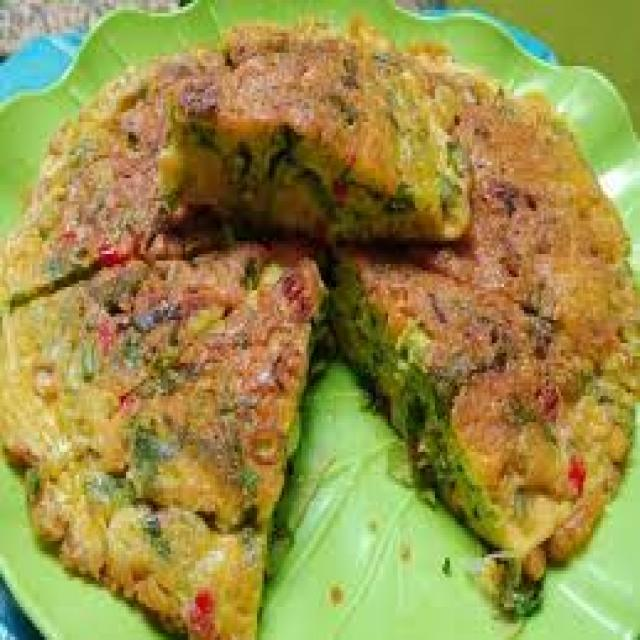telur_dadar: (16, 49, 618, 600), (163, 11, 495, 241)
